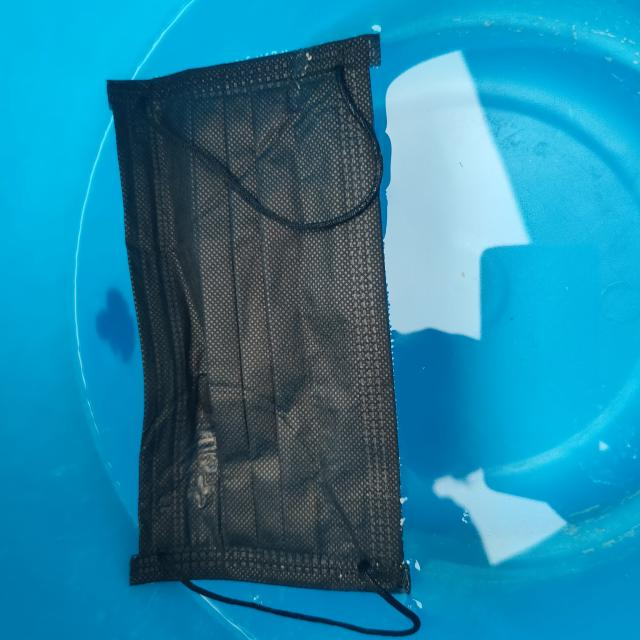mask: (97, 34, 441, 638)
